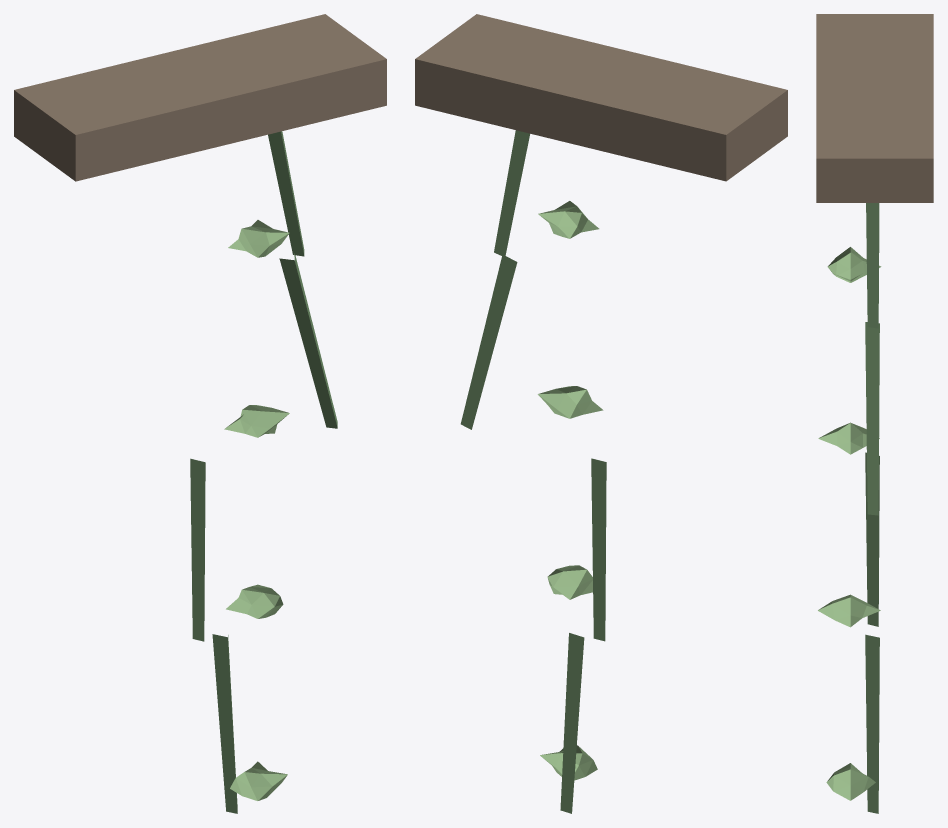
Rendered from vine_v13.glb.
3 views of the same model, side by side, from view 1: azimuth 30°, elevation 25°; view 2: azimuth 150°, elevation 25°; view 3: azimuth 270°, elevation 25° (orthographic). The views are drawn at different scales.
Parts seen in each view (by area): view 1: lod0; view 2: lod0; view 3: lod0.
Boxes of the visible parts, box(x1,y1,x2,y2) form: lod0: box(14, 14, 386, 813); lod0: box(415, 14, 787, 813); lod0: box(816, 14, 933, 813).
Size of what is drawn, in the model's own units: 0.7 by 1.6 by 0.24.
